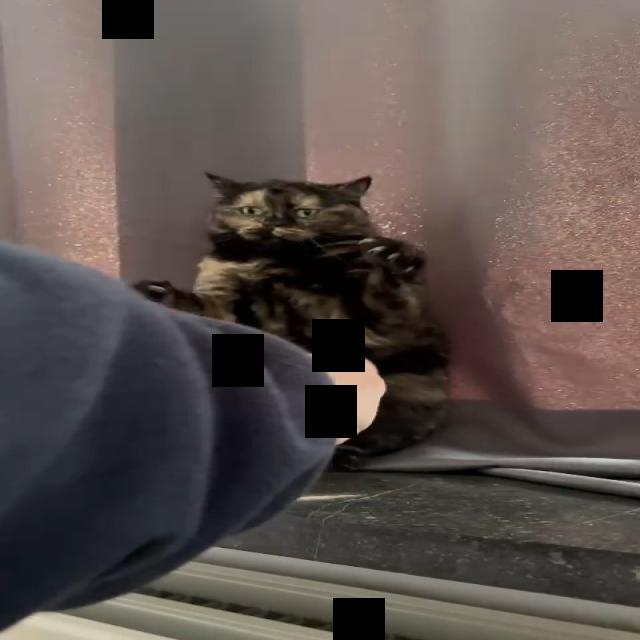authorized: (136, 170, 453, 470)
